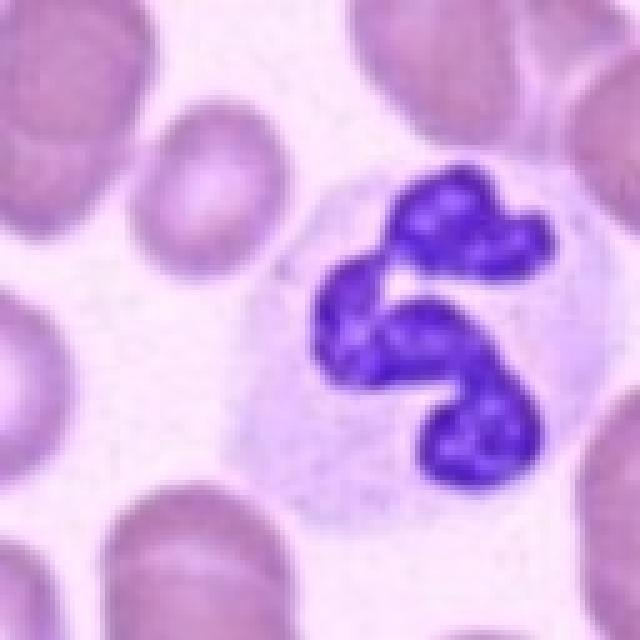neutro: (73, 83, 570, 536)
